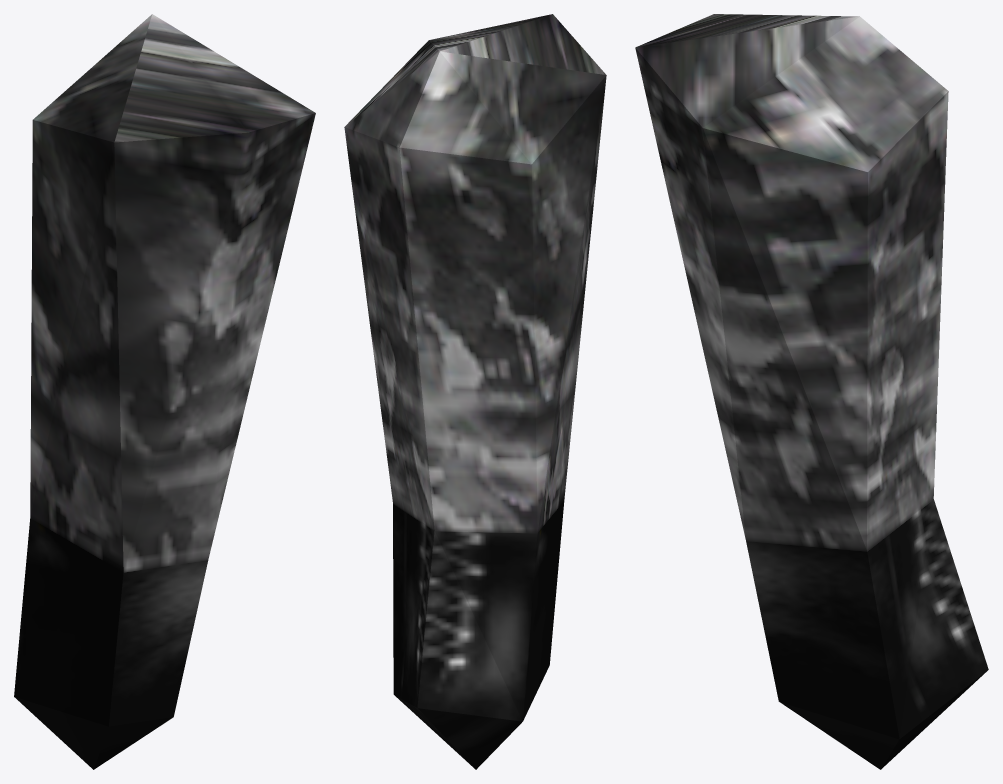
Rendered from R_Leg_lowe.obj.
3 renders of one model, left to right at view 1: azimuth 30°, elevation 25°; view 2: azimuth 150°, elevation 25°; view 3: azimuth 270°, elevation 25°, orthographic. The views are drawn at different scales.
Visible parts, largest first — view 1: R_Leg_lowe; view 2: R_Leg_lowe; view 3: R_Leg_lowe.
Part boxes in pixels (x1,y1,x2,y2): R_Leg_lowe: (14, 14, 315, 769); R_Leg_lowe: (344, 14, 606, 769); R_Leg_lowe: (635, 14, 988, 769).
Size of the model in its own units: 0.4534 by 1.53 by 0.6314.
